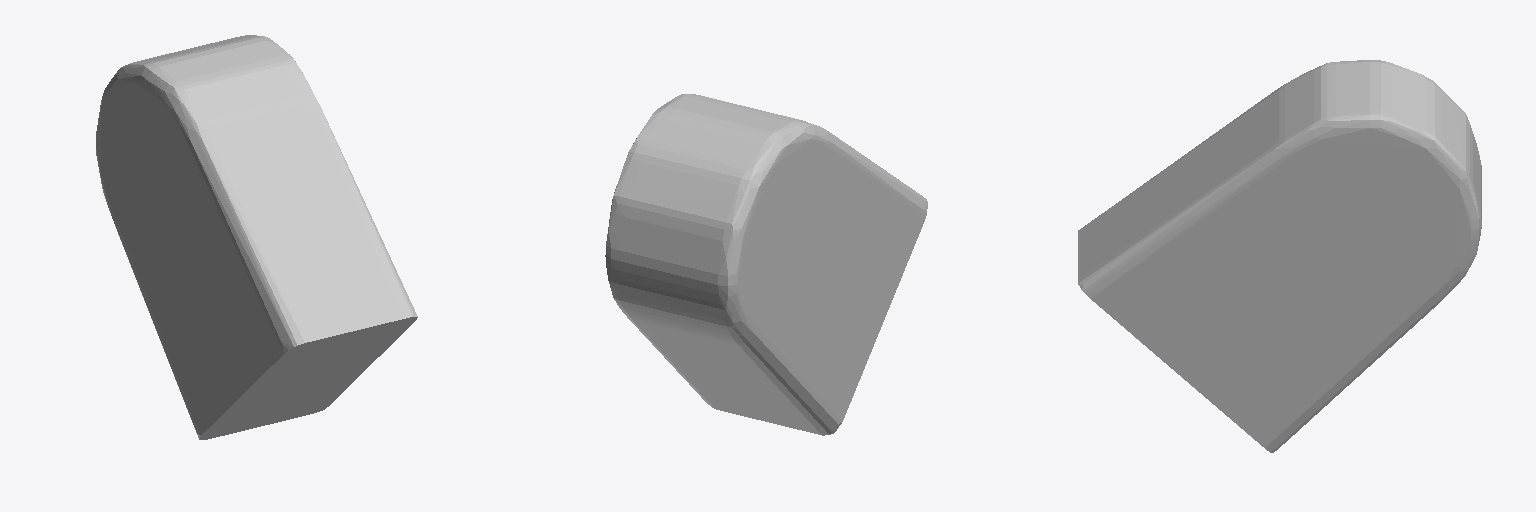
The model's file is Carbon_Mov_Finger_021_v1_1_mesh_collision_13.obj.
3 renders of one model, left to right at view 1: azimuth 30°, elevation 25°; view 2: azimuth 150°, elevation 25°; view 3: azimuth 270°, elevation 25°, orthographic.
Size of the model in its own units: 0.0033 by 0.0081 by 0.0088.